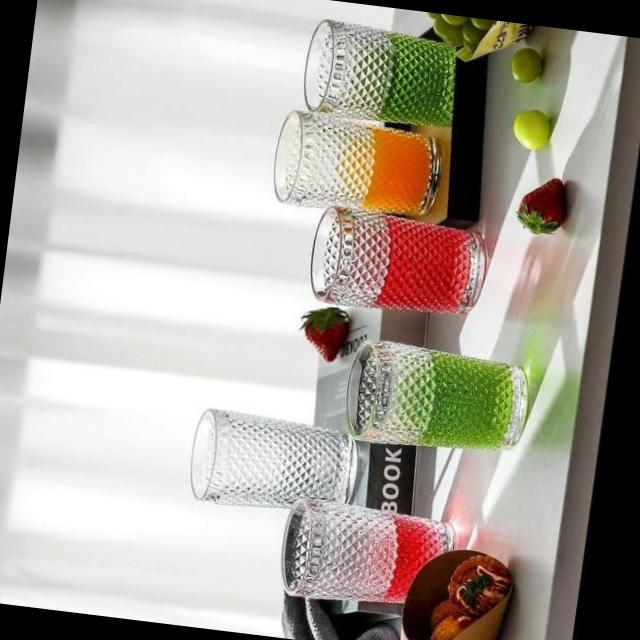glass: (342, 330, 545, 461), (273, 489, 475, 614), (302, 198, 492, 325), (185, 395, 380, 509), (285, 7, 471, 125), (266, 97, 453, 214)
